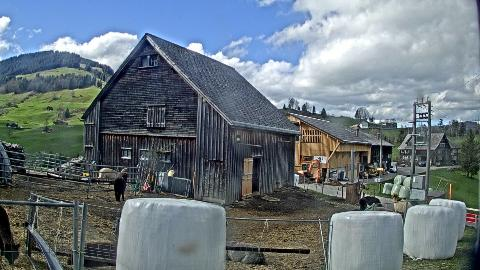car: (388, 165, 398, 173), (418, 161, 426, 167)
sheep: (0, 204, 20, 266), (67, 242, 117, 266), (225, 241, 265, 265), (96, 168, 128, 188), (392, 192, 412, 216), (114, 172, 128, 201), (363, 196, 383, 210), (351, 199, 367, 212), (409, 200, 419, 208)
